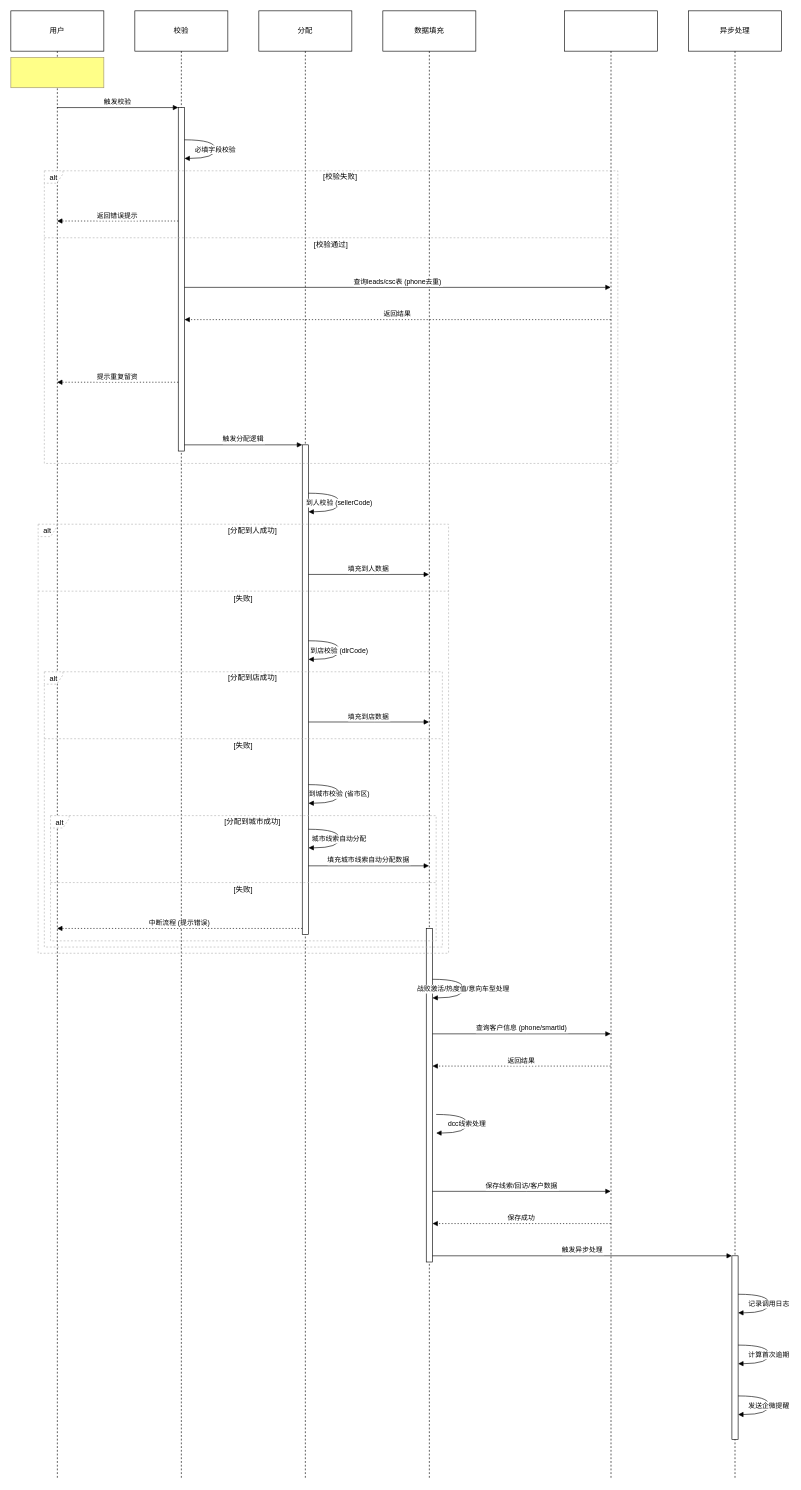
Image size: 801x1490. Some labels were removed from this diagram. The shapes that lost their labels are listed below. From the top down, each one's box as (x1, y1, x2, y2) in pixels, then its label:
(10, 57, 104, 88): 提交线索数据
(564, 10, 658, 1480): 数据库
